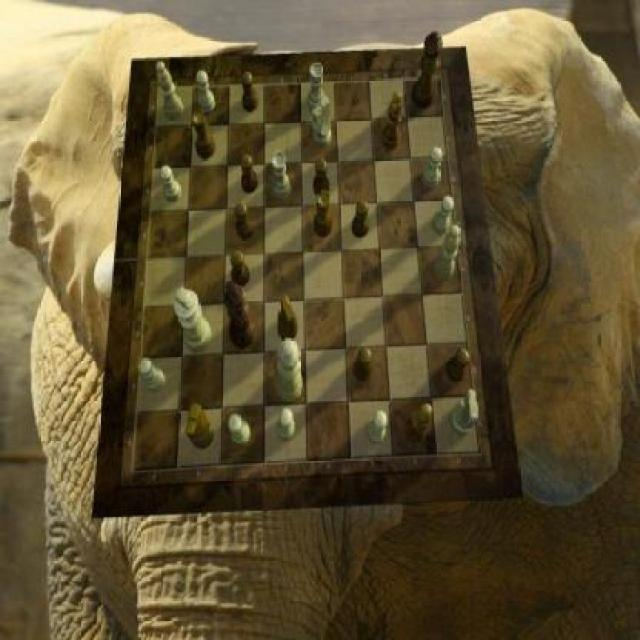bishop: (382, 91, 402, 151), (406, 403, 434, 445)
black-bishop: (224, 280, 254, 351)
black-king: (184, 403, 213, 449), (277, 294, 298, 341)
black-knight: (231, 249, 251, 287), (448, 348, 470, 382), (240, 155, 258, 194), (242, 71, 259, 112), (314, 158, 331, 198), (236, 202, 254, 239), (354, 348, 373, 382), (351, 200, 368, 238)
black-pawn: (411, 31, 443, 109)
black-queen: (192, 109, 216, 160), (314, 191, 334, 238)
black-rook: (157, 62, 185, 122), (435, 225, 460, 279)
white-bishop: (174, 288, 211, 354)
white-king: (451, 391, 478, 436), (312, 97, 332, 149)
white-knight: (138, 358, 166, 394), (432, 197, 455, 235), (158, 166, 181, 202), (423, 148, 443, 188), (196, 71, 214, 113), (228, 414, 250, 446), (368, 409, 388, 444), (277, 408, 296, 442)
white-pawn: (276, 338, 302, 401)
white-queen: (271, 152, 291, 200), (308, 63, 325, 114)
